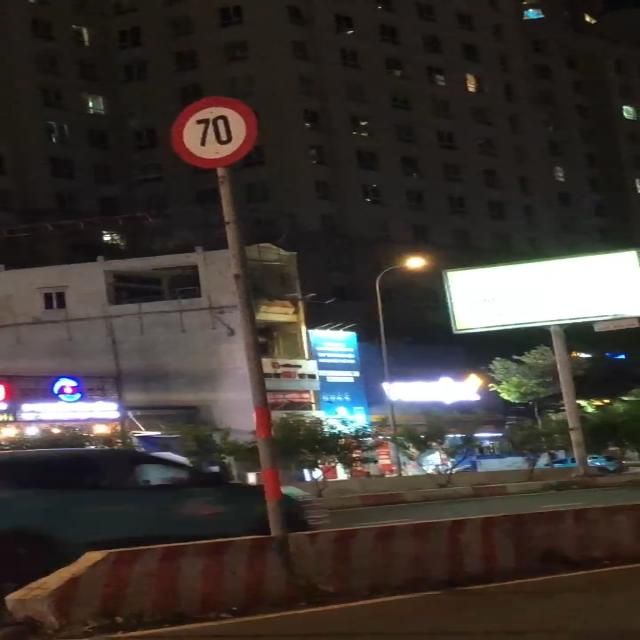Bien bao toc do toi da cho phep: (169, 93, 269, 168)
